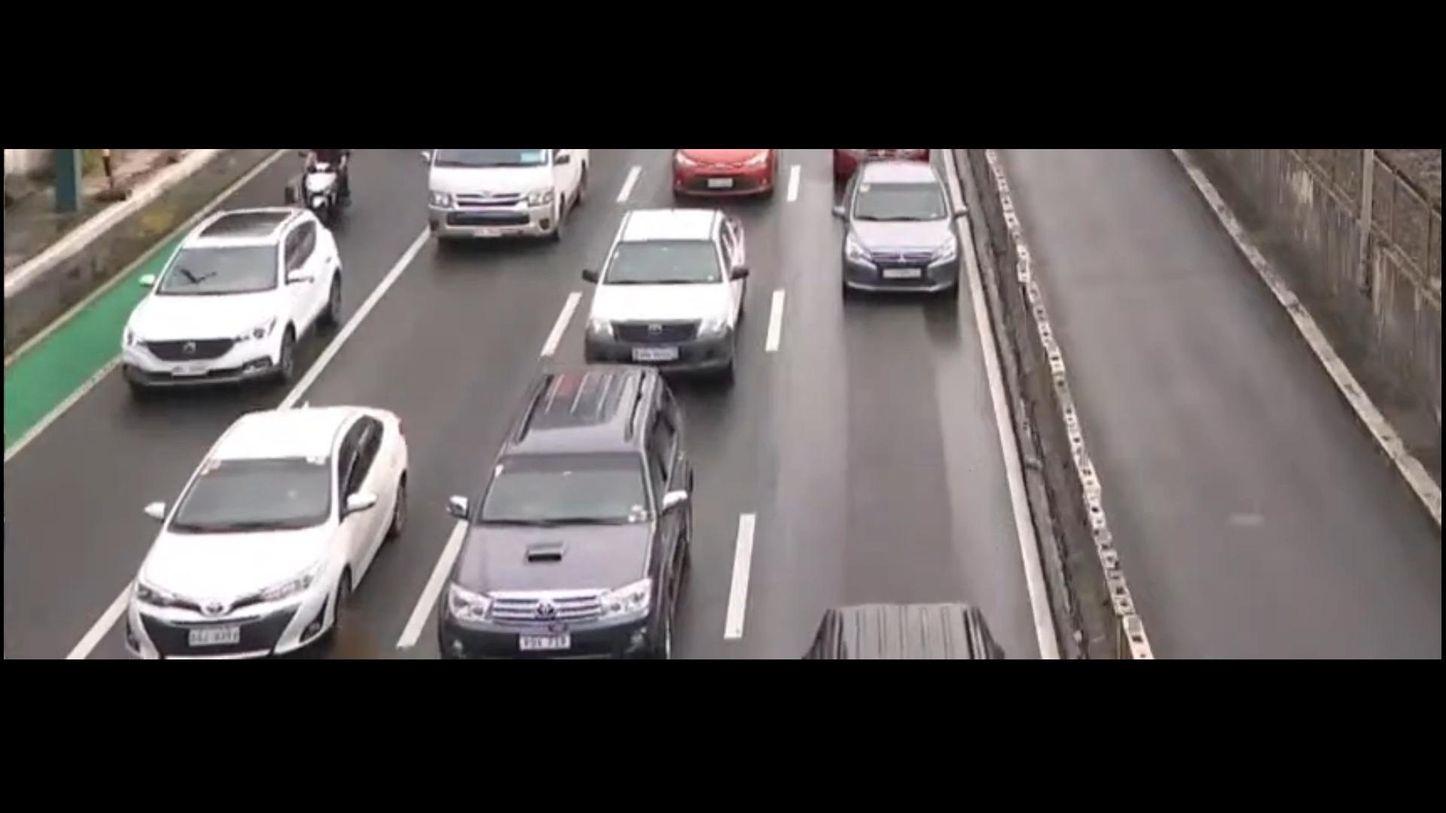Motorcycle: (295, 134, 379, 240)
SUV: (426, 345, 705, 657), (103, 198, 358, 422)
Sedan: (106, 390, 433, 664), (575, 189, 776, 384), (822, 157, 968, 316)
